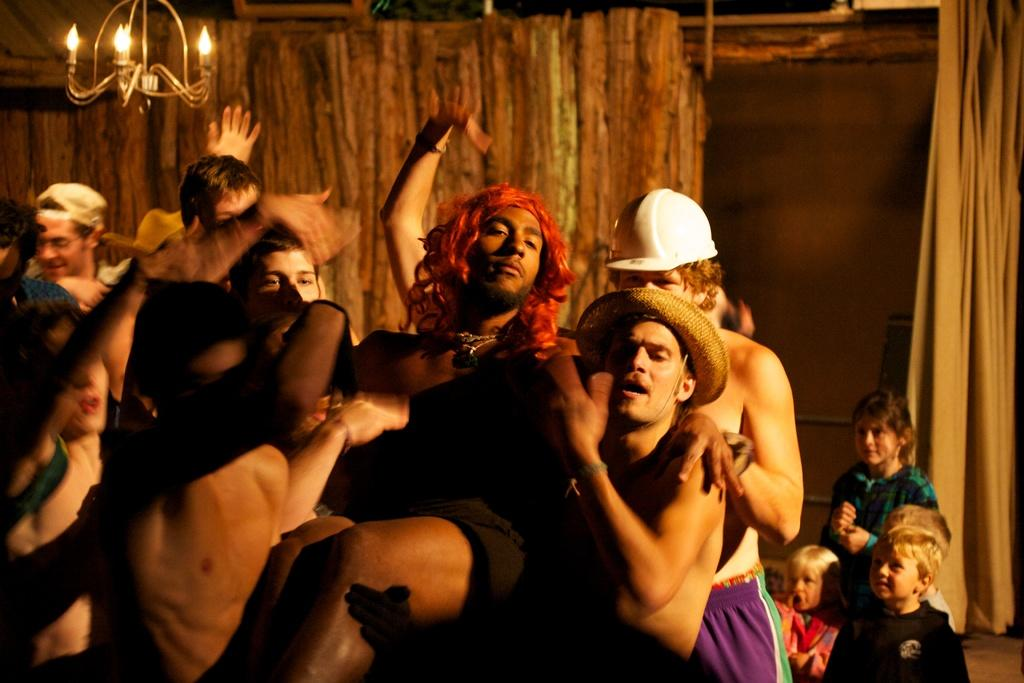Hat: (577, 288, 722, 430), (31, 178, 110, 244), (131, 205, 187, 260)
